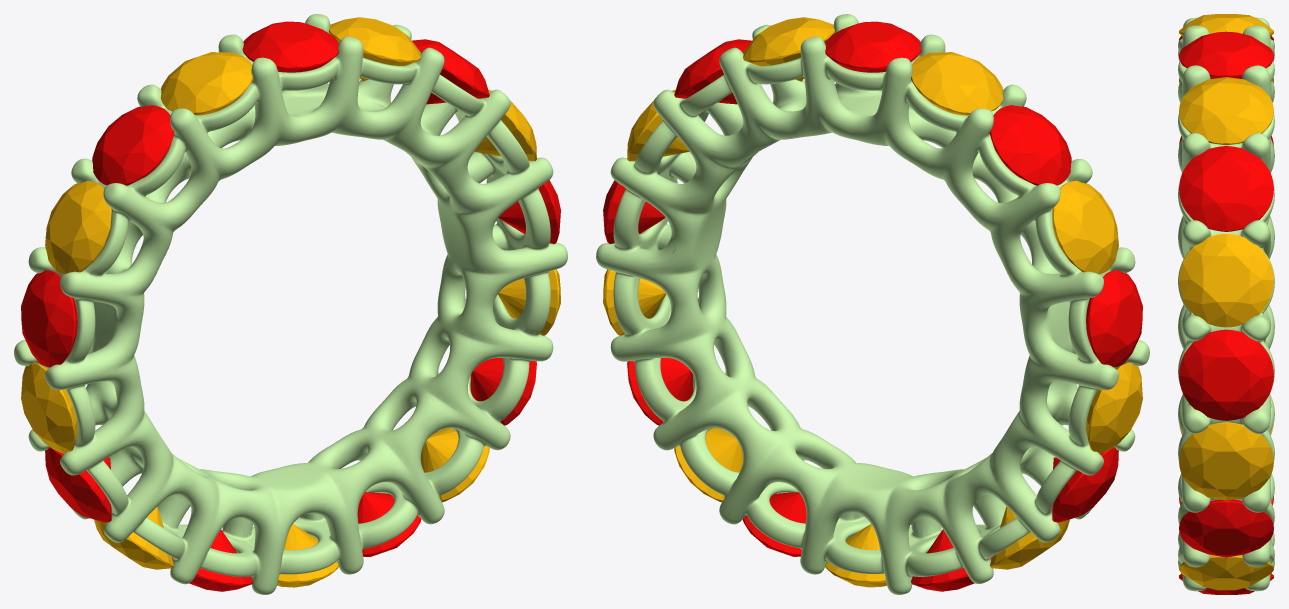
Rendered from TCC-RN-CR-32189-Round-Eternity-30.glb.
The picture shows the model from 3 angles, left to right: view 1: azimuth 30°, elevation 25°; view 2: azimuth 150°, elevation 25°; view 3: azimuth 270°, elevation 25°; orthographic projection. The views are drawn at different scales.
Parts seen in each view (by area): view 1: Metal03, Diamond Band01.007, Diamond Band02.008, Diamond Band02, Diamond Band01.006, Diamond Band01, Diamond Band02.007, Diamond Band02.001, Diamond Band01.005, Diamond Band01.001, Diamond Band02.004, Diamond Band01.003 (+7 smaller); view 2: Metal03, Diamond Band01.007, Diamond Band02.008, Diamond Band02, Diamond Band01.006, Diamond Band01, Diamond Band02.007, Diamond Band02.001, Diamond Band01.005, Diamond Band01.001, Diamond Band02.004, Diamond Band01.003 (+7 smaller); view 3: Metal03, Diamond Band02.002, Diamond Band01.002, Diamond Band01.001, Diamond Band02.003, Diamond Band02.001, Diamond Band01.003, Diamond Band01, Diamond Band02.004, Diamond Band02, Diamond Band01.004.
Boxes of the visible parts, x1,y1,x2,y2 form: Metal03: (14,14,567,594); Diamond Band01.007: (92,105,174,185); Diamond Band02.008: (45,180,111,274); Diamond Band02: (160,52,252,115); Diamond Band01.006: (21,270,77,367); Diamond Band01: (242,21,338,72); Diamond Band02.007: (21,362,77,453); Diamond Band02.001: (329,17,420,81); Diamond Band01.005: (45,447,111,522); Diamond Band01.001: (412,39,489,104); Diamond Band02.004: (420,428,489,502); Diamond Band01.003: (470,358,536,425); Metal03: (596,14,1149,594); Diamond Band01.007: (989,105,1071,185); Diamond Band02.008: (1052,180,1118,274); Diamond Band02: (911,52,1003,115); Diamond Band01.006: (1086,270,1142,367); Diamond Band01: (825,21,921,72); Diamond Band02.007: (1086,362,1142,453); Diamond Band02.001: (743,17,834,81); Diamond Band01.005: (1052,447,1118,522); Diamond Band01.001: (674,39,751,104); Diamond Band02.004: (674,428,743,502); Diamond Band01.003: (627,358,693,425); Metal03: (1178,17,1274,591); Diamond Band02.002: (1179,234,1273,327); Diamond Band01.002: (1179,329,1273,420); Diamond Band01.001: (1179,146,1273,231); Diamond Band02.003: (1179,422,1273,500); Diamond Band02.001: (1179,77,1273,145); Diamond Band01.003: (1179,499,1273,557); Diamond Band01: (1179,31,1273,78); Diamond Band02.004: (1179,555,1273,590); Diamond Band02: (1179,14,1273,36); Diamond Band01.004: (1179,573,1273,594).
Bounding box in the file's own units: 27.14 × 27.18 × 4.55.
